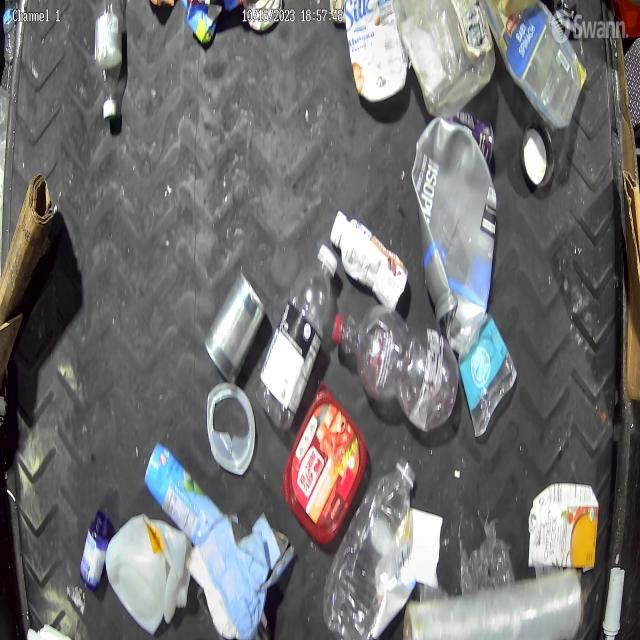can: (143, 440, 220, 546), (204, 269, 265, 384), (207, 382, 256, 476), (449, 110, 494, 163)
milk_jug: (104, 512, 194, 636), (344, 0, 408, 100)
non_white_jug: (412, 114, 497, 350), (527, 482, 599, 570)
plastic_bottle: (324, 455, 416, 640), (332, 305, 460, 434), (257, 242, 337, 432), (94, 0, 122, 121), (3, 0, 14, 62)
